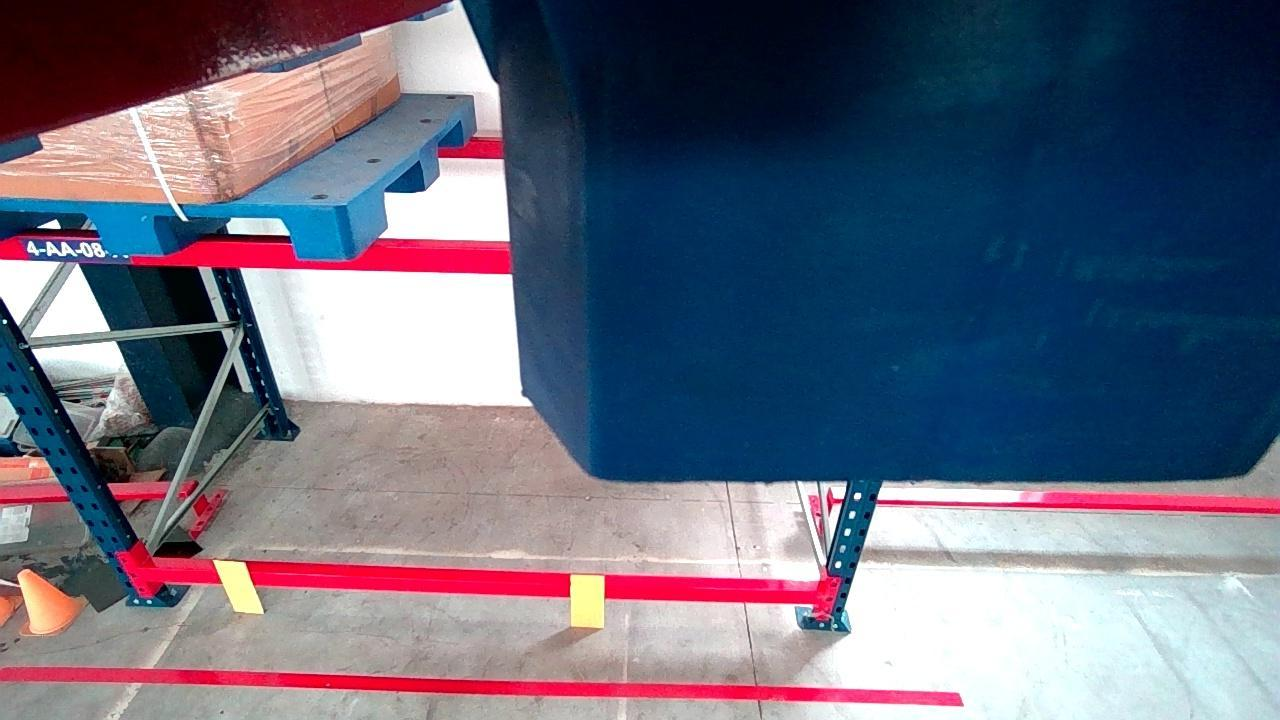h_rack: (140, 567, 812, 605), (2, 236, 509, 274)
orange_strip: (216, 563, 260, 612), (570, 574, 605, 628)
red_line: (1, 668, 960, 705)
small_pallet: (0, 202, 343, 257)
